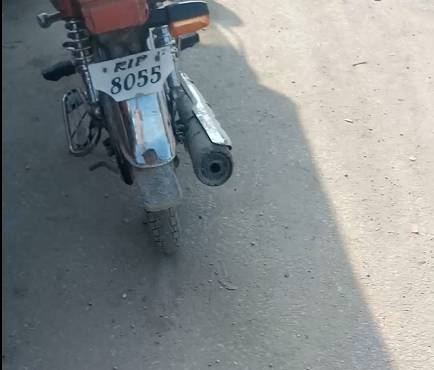number_plate: (88, 51, 181, 95)
